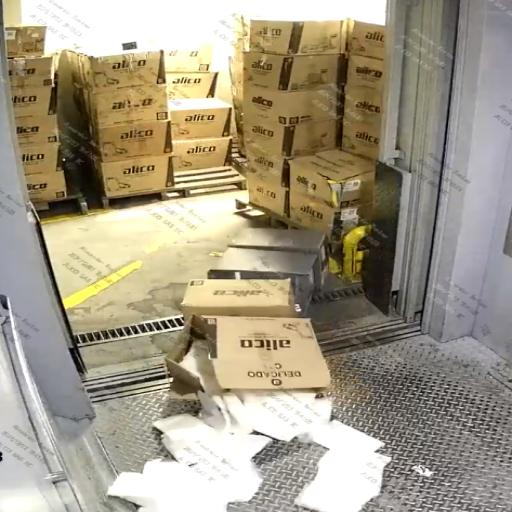Caja caida: (74, 157, 466, 512)
